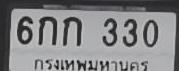0: (142, 18, 157, 46)
3: (101, 17, 116, 45), (122, 18, 136, 46)
6: (16, 15, 32, 44)
A01: (37, 14, 56, 45), (62, 16, 81, 45)
BKK: (31, 55, 152, 71)
